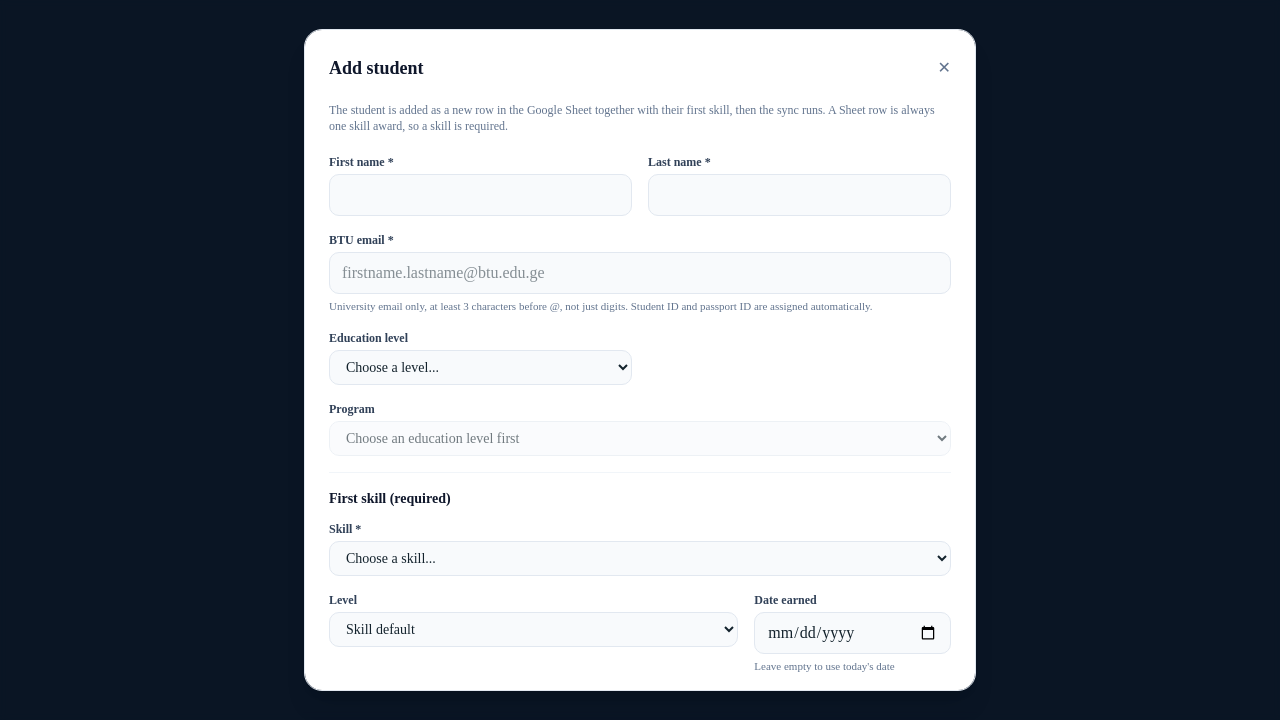
Test: AddStudentDialog › does not submit without a skill
Type "Nino" into the field labelled "First name *" at (480, 195), box 329,174 -> 632,216
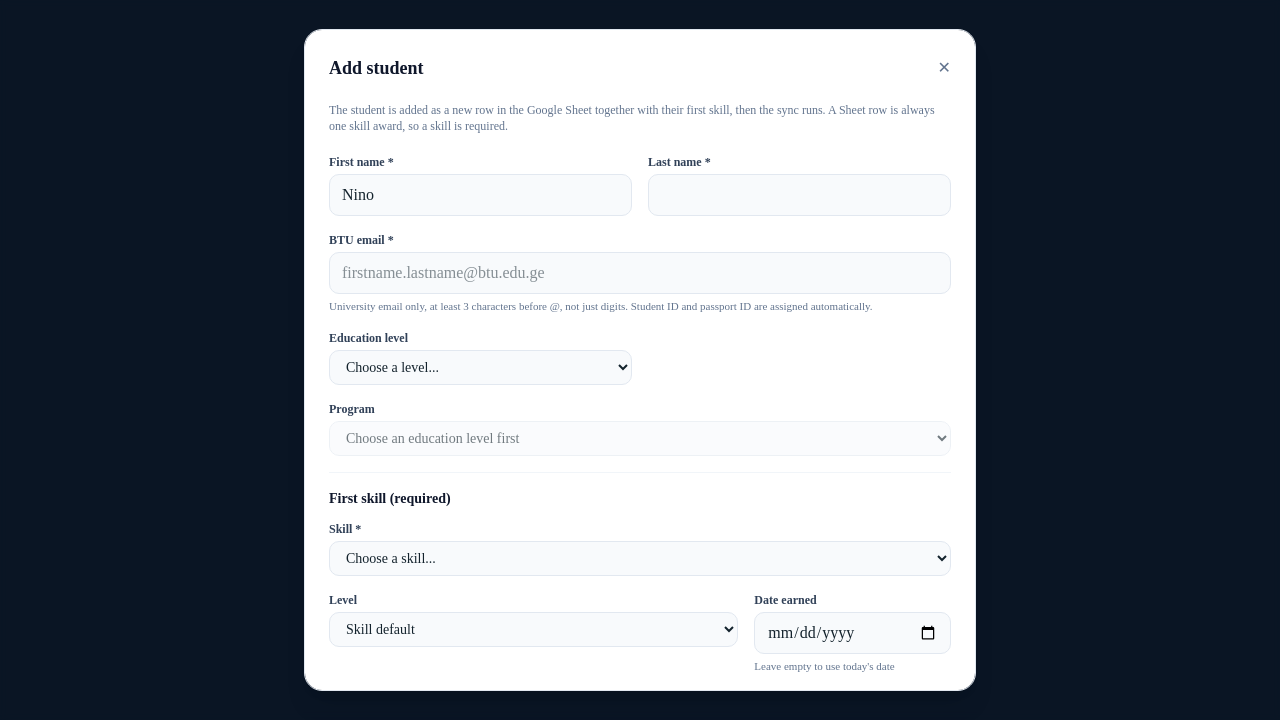
Type "Beridze" into the field labelled "Last name *" at (800, 195), box 648,174 -> 951,216
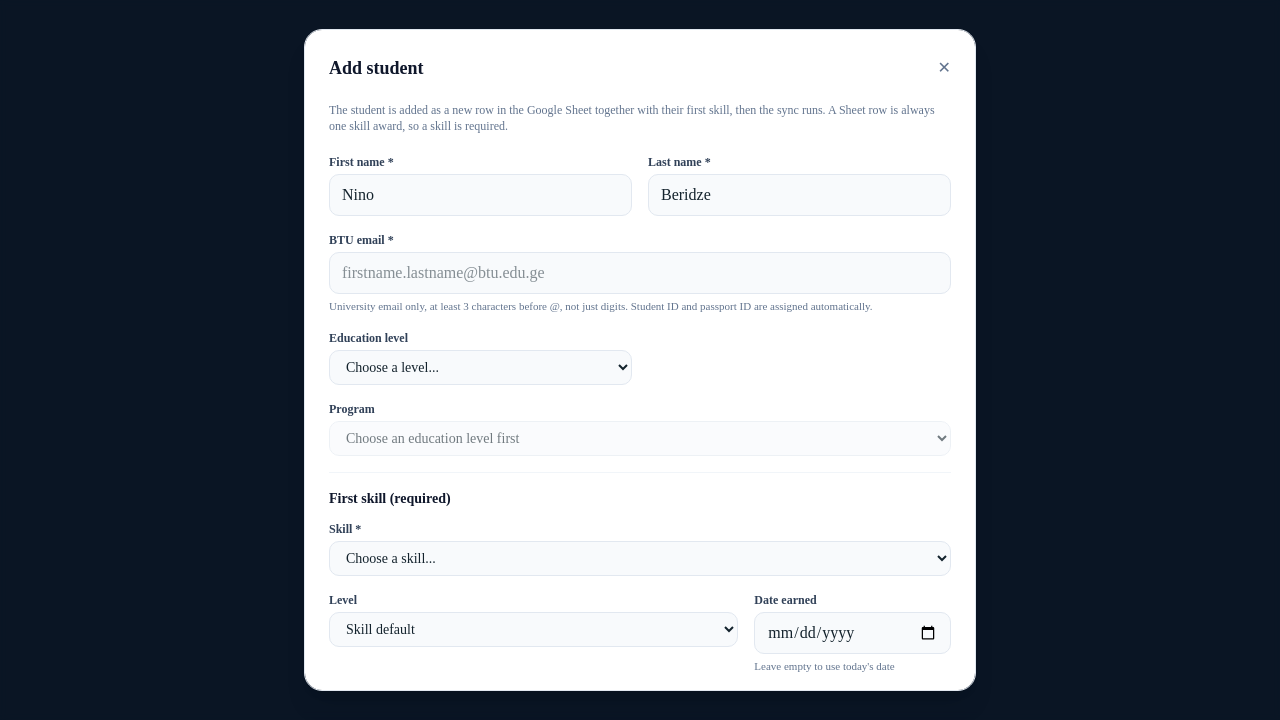
Type "nino@btu.edu.ge" into the field labelled "BTU email *" at (640, 273), box 329,252 -> 951,294
(page scrolled)
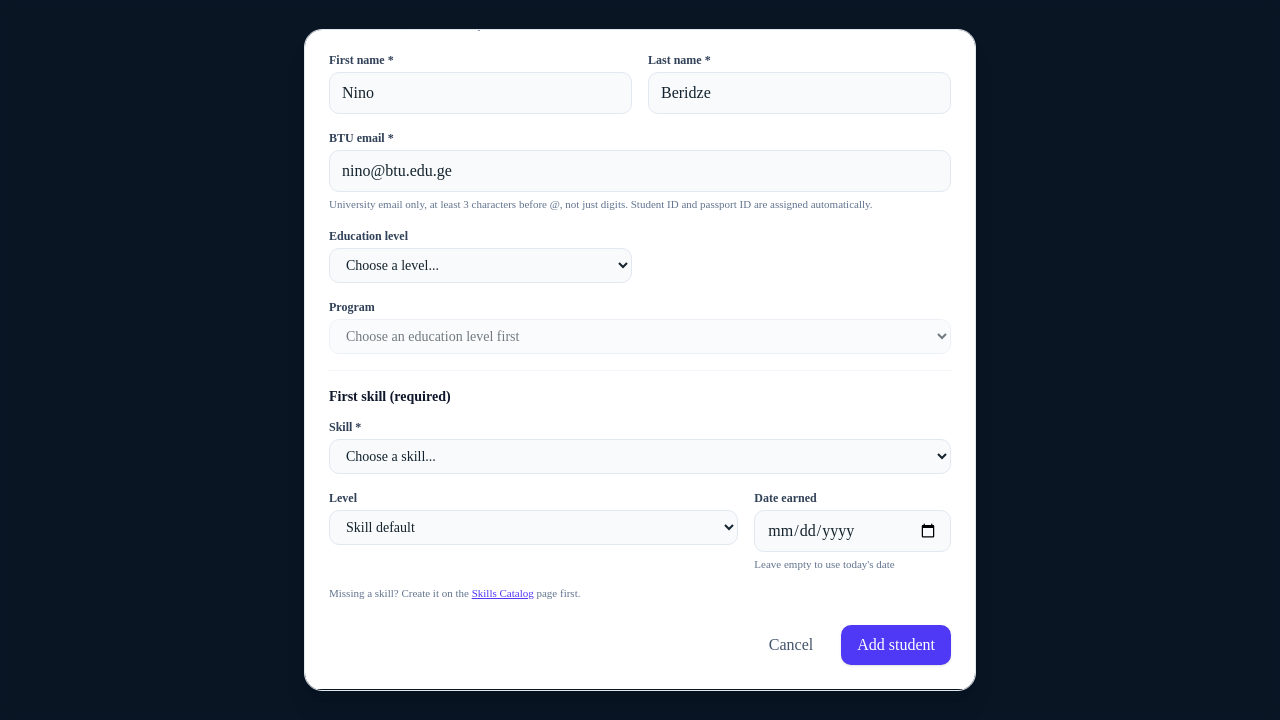
Click the button "Add student" at (896, 645), box 841,625 -> 951,665
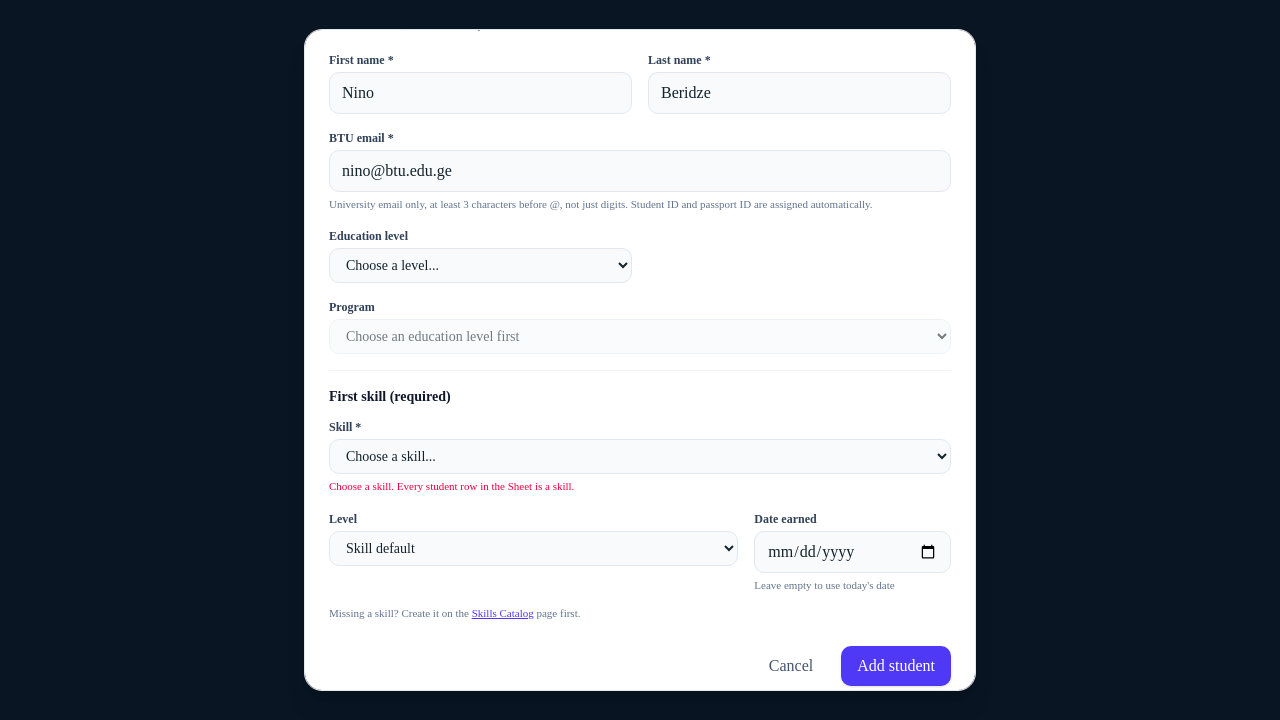
Expected: the message shows "Choose a skill", 329,480 -> 574,492
